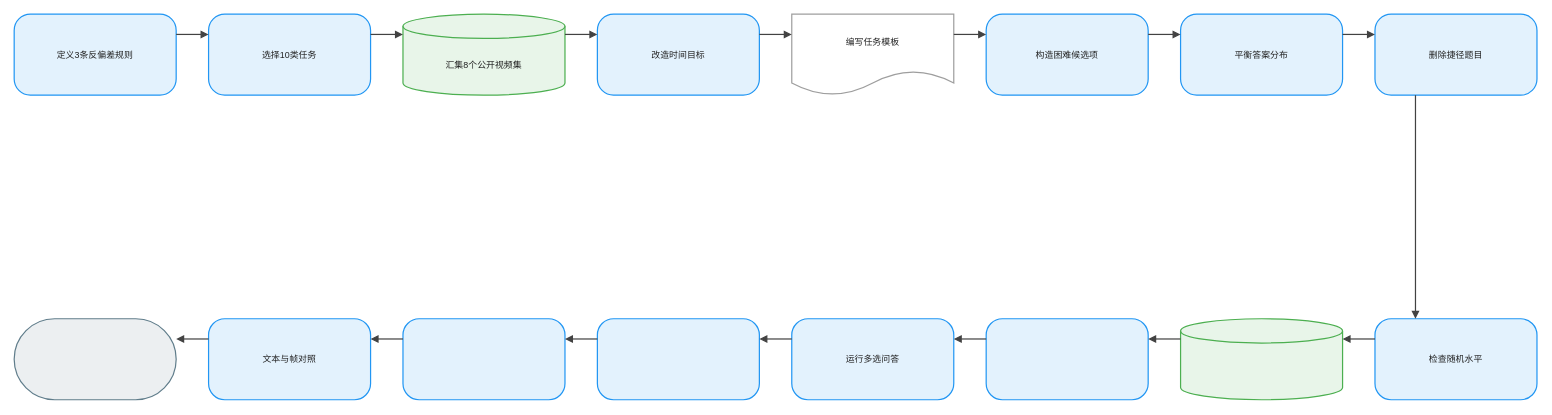
Some shapes in this 1552 by 415 pixel diagram are drawn without their labels. Here are the shapes that lost their labels. From the top down, the centre of each, then its label:
the point at 94,359: 执行倒放测试
the point at 483,359: 聚合10类任务
the point at 678,359: 计算任务准确率
the point at 1066,359: 按序采样视频
the point at 1261,359: 冻结2654题
